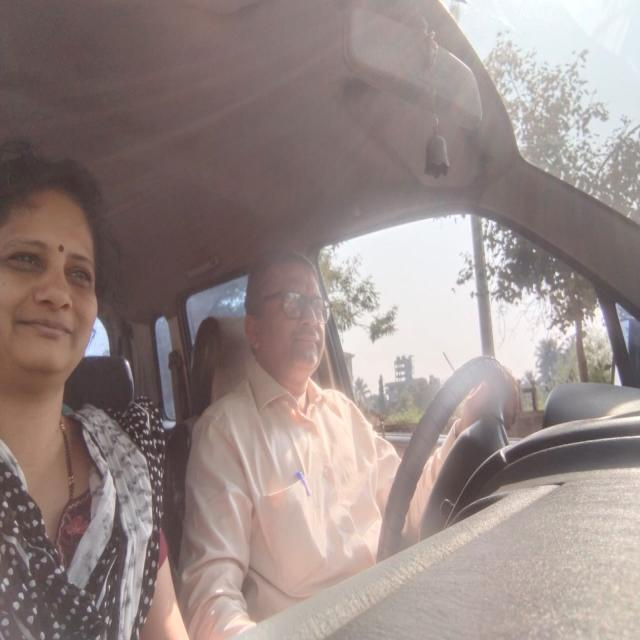person: (0, 138, 114, 408), (244, 238, 340, 395)
